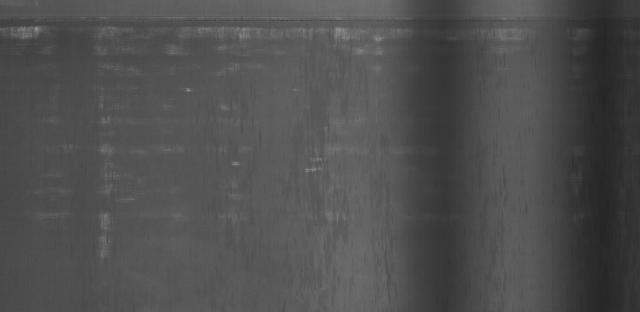welding_line: (1, 9, 632, 30)
